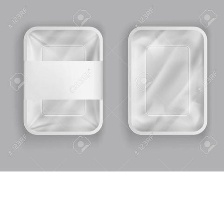foam_box: (15, 20, 108, 141), (121, 20, 212, 141)
